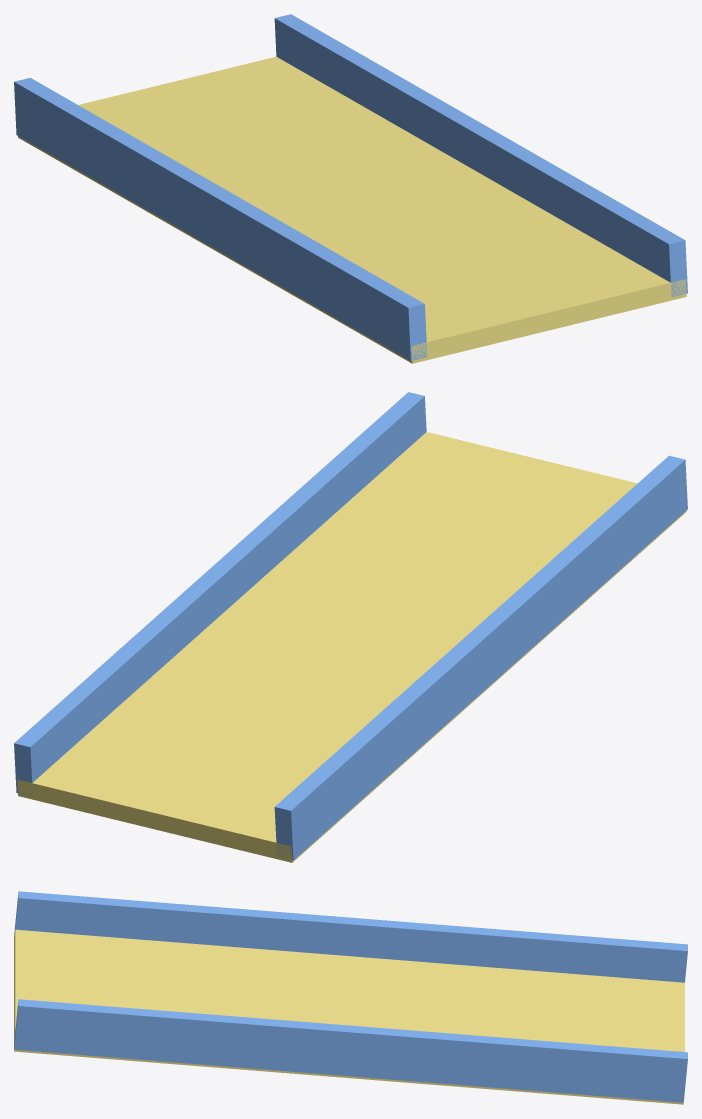
The model's file is Toy_Slide_C1.fbx.
3 views of the same model, one above another, from view 1: azimuth 30°, elevation 25°; view 2: azimuth 150°, elevation 25°; view 3: azimuth 270°, elevation 25° (orthographic). The views are drawn at different scales.
Parts seen in each view (by area): view 1: Toy_Slide_C1; view 2: Toy_Slide_C1; view 3: Toy_Slide_C1.
Boxes of the visible parts, bbox=[...] form: Toy_Slide_C1: bbox=[14, 14, 687, 363]; Toy_Slide_C1: bbox=[14, 392, 687, 862]; Toy_Slide_C1: bbox=[14, 891, 687, 1104].
Size of the model in its own units: 2.02 by 0.8143 by 5.01.
